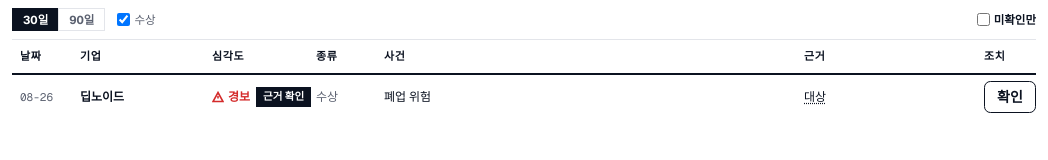
it: EventTable › confirms one open alert from the table, says so and refreshes the page
The image size is (1048, 160).
Click the button with aria-label "폐업 위험 확인" at (1010,97), box x1=984 y1=81 x2=1036 y2=113
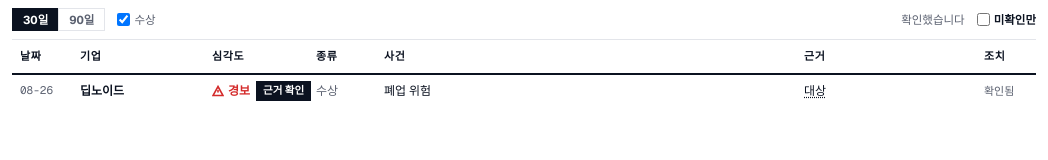
Result: the message reads "확인했습니다" at x1=901 y1=12 x2=965 y2=27
